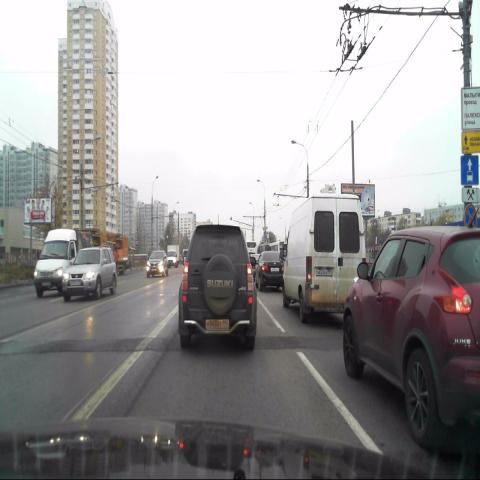5_14: (461, 155, 478, 185)
8_5_2: (462, 188, 480, 201)
